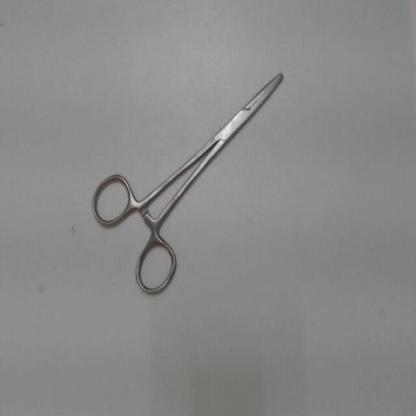Mayo Needle Holder: (86, 56, 304, 304)
